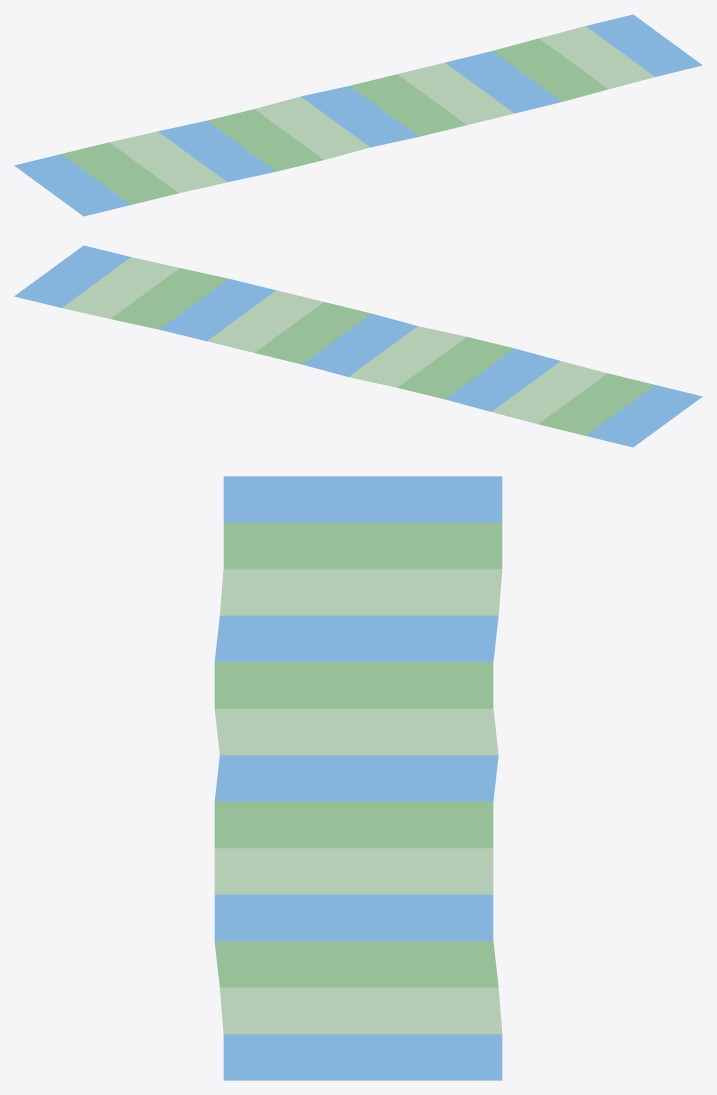
File: Carpat_M_02.fbx
3 renders of one model, top to bottom at view 1: azimuth 30°, elevation 25°; view 2: azimuth 150°, elevation 25°; view 3: azimuth 270°, elevation 25°, orthographic. The views are drawn at different scales.
Parts seen in each view (by area): view 1: Carpat_M_02; view 2: Carpat_M_02; view 3: Carpat_M_02.
Part boxes in pixels (box(x1,y1,x2,y2)): Carpat_M_02: box(14, 14, 702, 216); Carpat_M_02: box(14, 245, 702, 447); Carpat_M_02: box(214, 476, 502, 1080).
Bounding box in the file's own units: 346 × 1.13e-05 × 69.55.
1 material, 1 textured.
